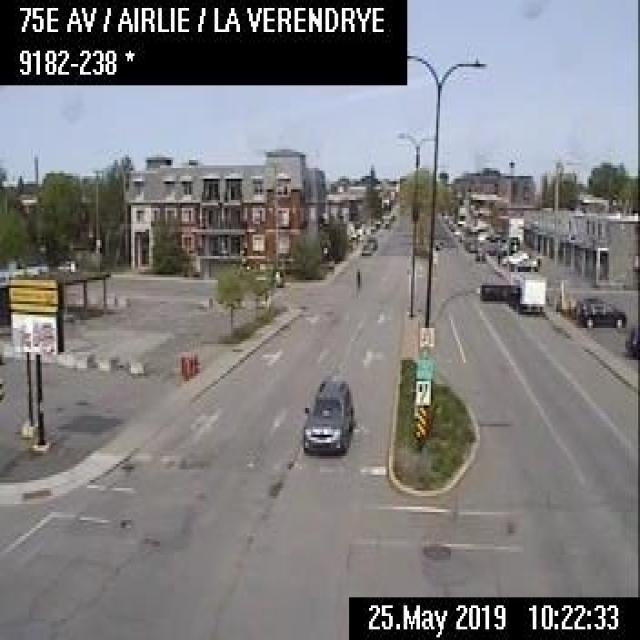construction: (192, 350, 199, 370), (179, 352, 185, 373), (188, 351, 193, 375), (183, 356, 188, 378)
pedestrian: (352, 265, 359, 289), (494, 247, 500, 265)
vehicle: (298, 374, 355, 454), (574, 294, 626, 329), (508, 272, 548, 315), (510, 254, 538, 272), (51, 256, 76, 275), (501, 247, 526, 264), (624, 322, 636, 357), (473, 243, 484, 260), (366, 234, 377, 247), (360, 240, 371, 253)
